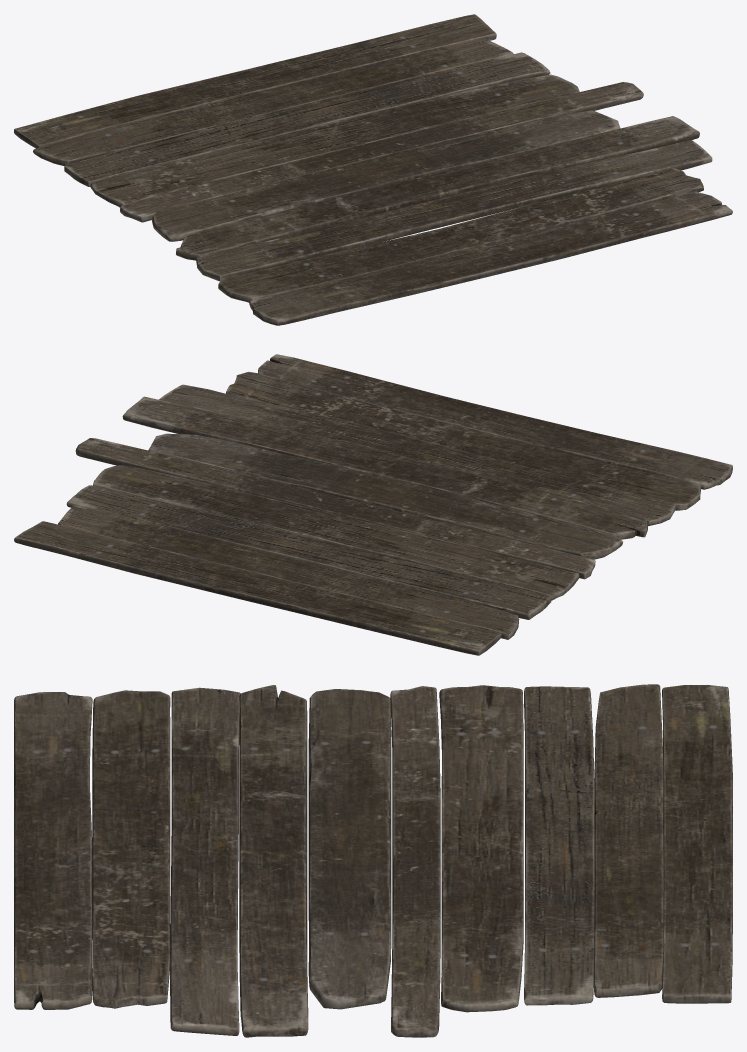
The model's file is modular_wooden_pier_planks.gltf.
The picture shows the model from 3 angles, top to bottom: view 1: azimuth 30°, elevation 25°; view 2: azimuth 150°, elevation 25°; view 3: azimuth 270°, elevation 25°; orthographic projection. The views are drawn at different scales.
Visible parts, largest first — view 1: modular_wooden_pier_planks__x; view 2: modular_wooden_pier_planks__x; view 3: modular_wooden_pier_planks__x.
Boxes of the visible parts, x1,y1,x2,y2 form: modular_wooden_pier_planks__x: (14,14,732,325); modular_wooden_pier_planks__x: (14,354,732,655); modular_wooden_pier_planks__x: (14,684,732,1037).
Size of the model in its own units: 2.52 by 0.0798 by 2.2.
Materials: 1 (1 with a texture image).
